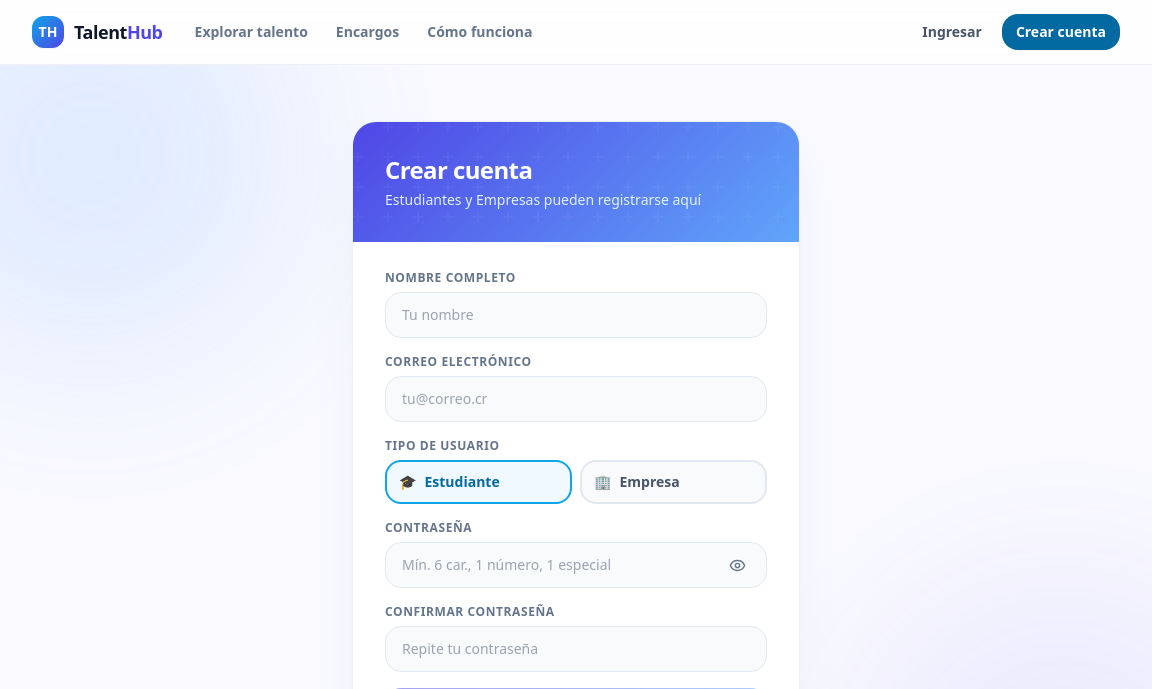
auth pages › keeps the created account recoverable when automatic login fails
Type "Ada Lovelace" into the field labelled "Nombre completo" at (576, 315), box left=385, top=292, right=767, bottom=338
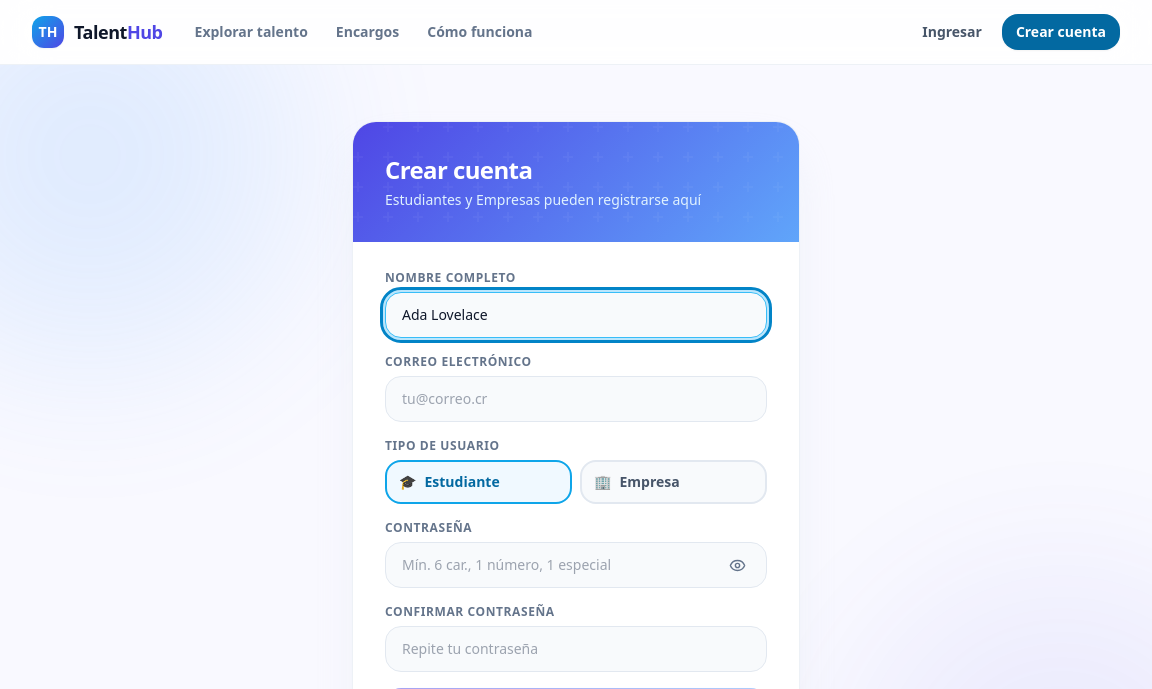
Type "ada@example.com" into the field labelled "Correo electrónico" at (576, 399), box left=385, top=376, right=767, bottom=422
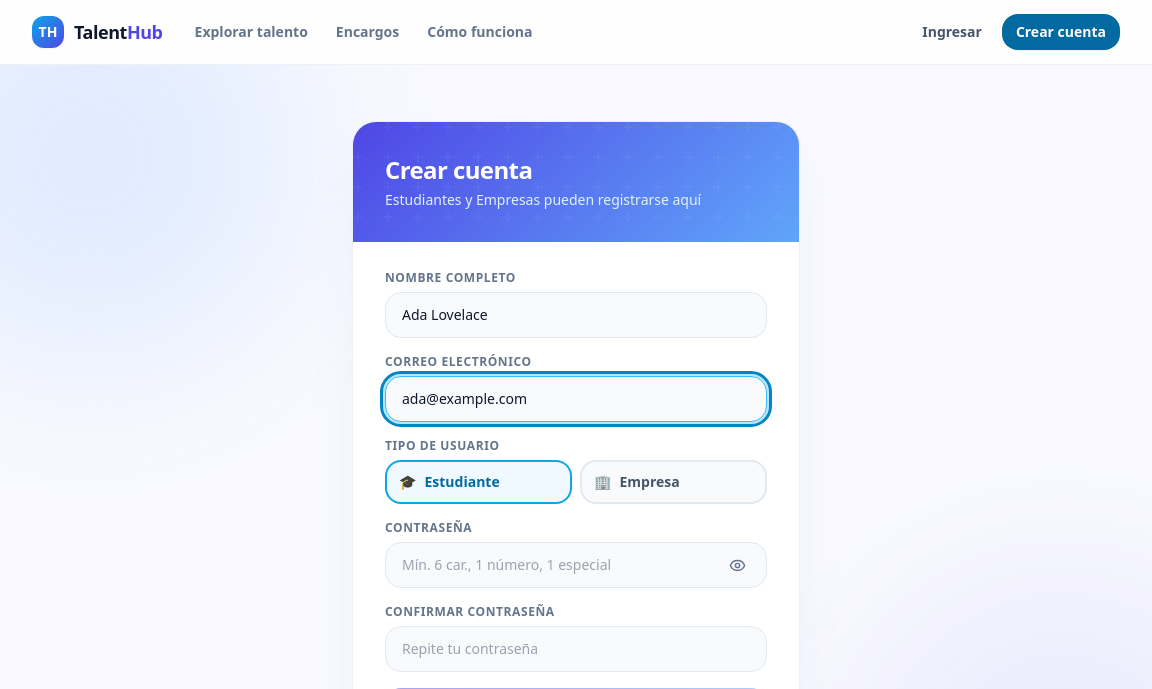
Type "Secure1!" into the password field labelled "Contraseña" at (576, 565), box left=385, top=542, right=767, bottom=588
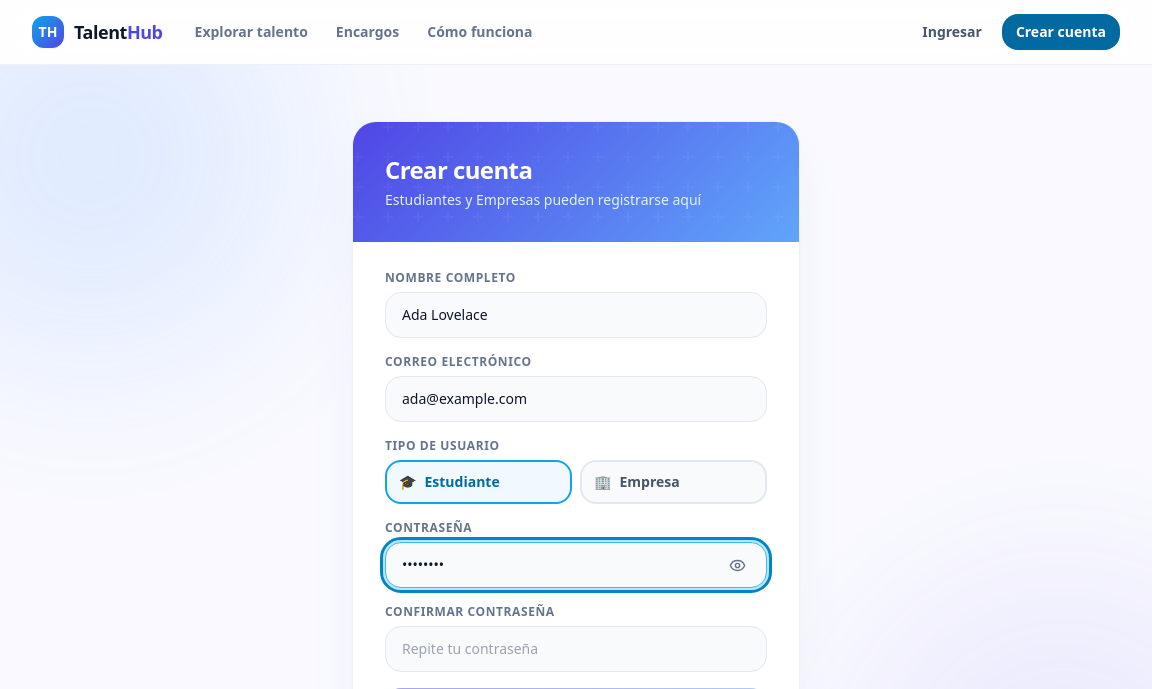
Type "Secure1!" into the password field labelled "Confirmar contraseña" at (576, 649), box left=385, top=626, right=767, bottom=672
(page scrolled)
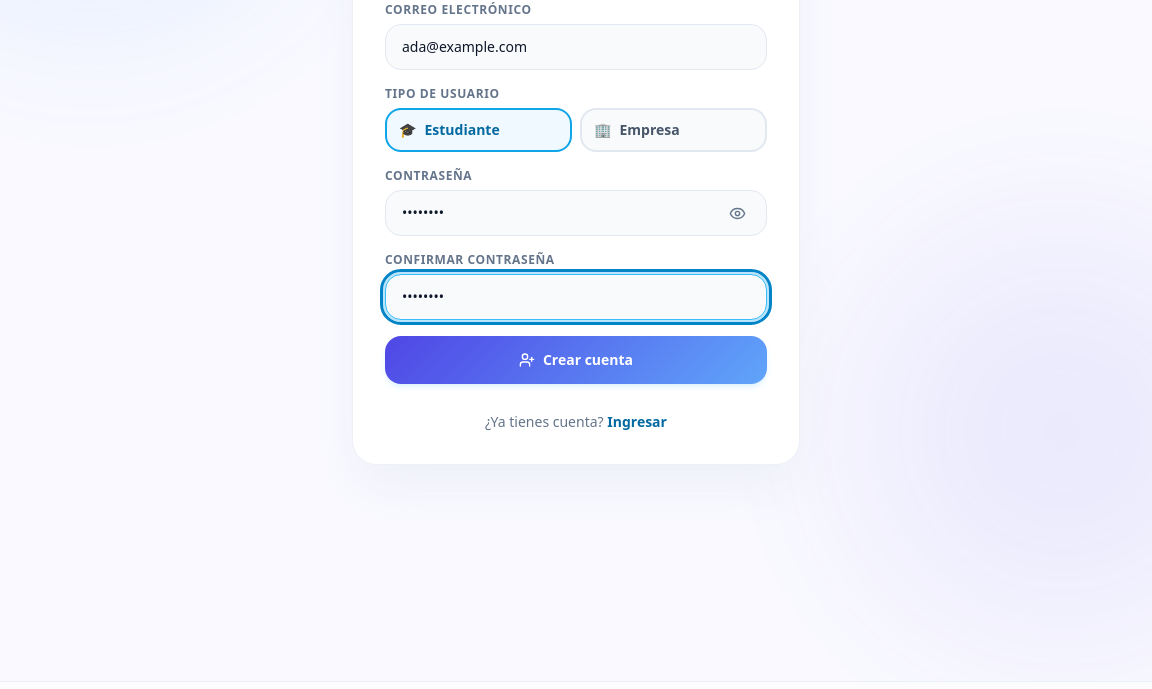
Click the button "Crear cuenta" at (576, 360), box left=385, top=336, right=767, bottom=384
(page scrolled)
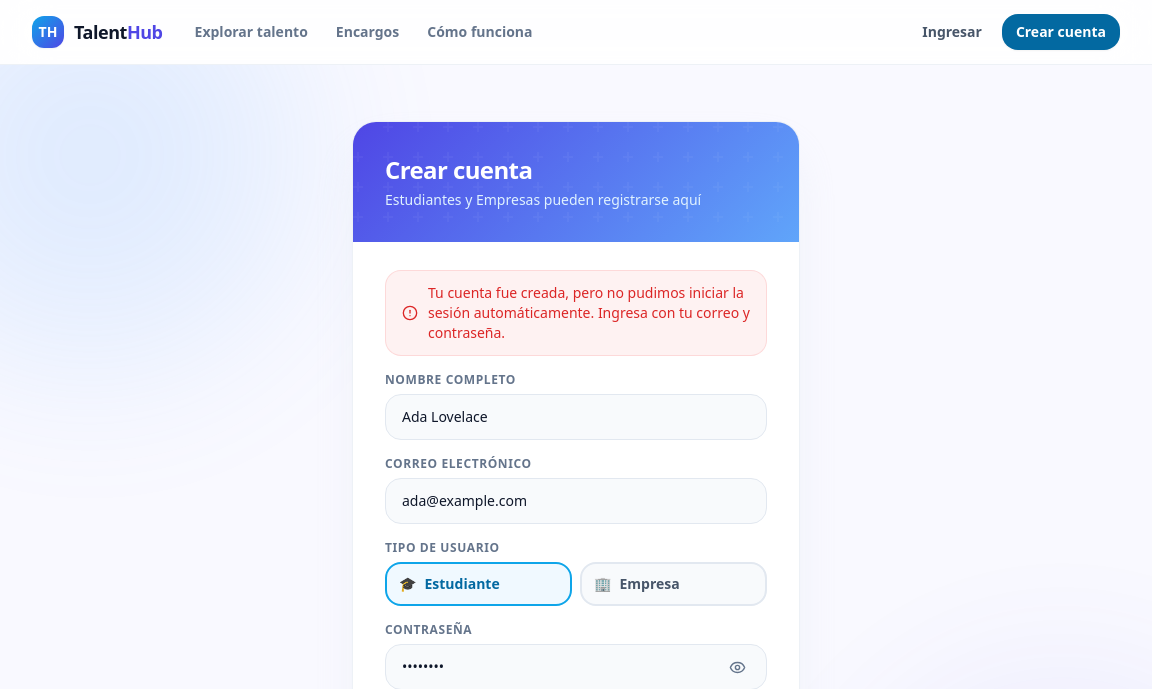
Expected: the message shows "Tu cuenta fue creada", left=428, top=283, right=750, bottom=342
